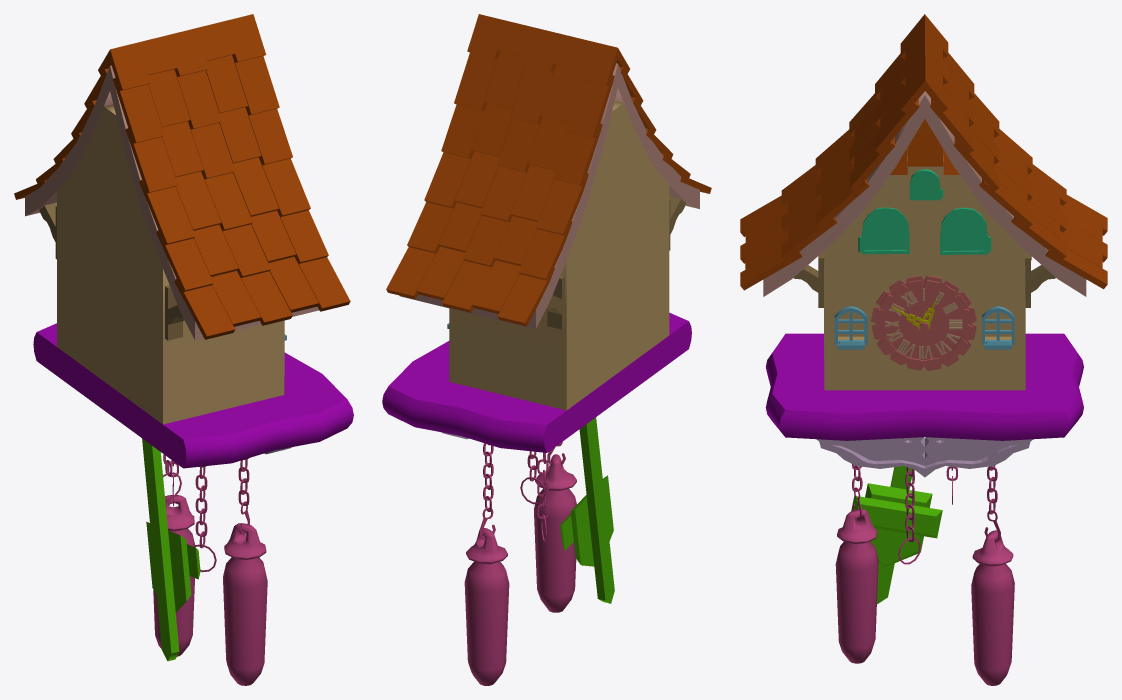
The model's file is uhr.fbx.
3 views of the same model, side by side, from view 1: azimuth 30°, elevation 25°; view 2: azimuth 150°, elevation 25°; view 3: azimuth 270°, elevation 25° (orthographic). The views are drawn at different scales.
Visible parts, largest first — view 1: polySurface1467, polySurface1450, polySurface1589, polySurface1637, polySurface1479, polySurface1646, polySurface1491, polySurface1537, polySurface1566, polySurface1536, polySurface1629, polySurface1521 (+21 smaller); view 2: polySurface1467, polySurface1450, polySurface1491, polySurface1589, polySurface1479, polySurface1637, polySurface1646, polySurface1484, polySurface1549, polySurface1623, polySurface1513, polySurface1600 (+21 smaller); view 3: polySurface1467, polySurface1450, polySurface1646, polySurface1637, polySurface1491, polySurface1633, polySurface1479, polySurface1503, polySurface1589, polySurface1507, polySurface1524, polySurface1435 (+22 smaller).
Part boxes in pixels (left/top/right/bottom): polySurface1467: left=57, top=104, right=284, bottom=424; polySurface1450: left=33, top=323, right=353, bottom=468; polySurface1589: left=98, top=14, right=266, bottom=90; polySurface1637: left=223, top=523, right=267, bottom=685; polySurface1479: left=142, top=438, right=200, bottom=661; polySurface1646: left=25, top=65, right=318, bottom=340; polySurface1491: left=153, top=495, right=194, bottom=656; polySurface1537: left=139, top=179, right=195, bottom=245; polySurface1566: left=113, top=78, right=164, bottom=143; polySurface1536: left=125, top=128, right=177, bottom=193; polySurface1629: left=174, top=278, right=235, bottom=339; polySurface1521: left=156, top=230, right=213, bottom=291; polySurface1467: left=449, top=101, right=669, bottom=410; polySurface1450: left=382, top=312, right=691, bottom=452; polySurface1491: left=464, top=528, right=509, bottom=685; polySurface1589: left=467, top=14, right=629, bottom=86; polySurface1479: left=560, top=417, right=614, bottom=603; polySurface1637: left=534, top=454, right=576, bottom=612; polySurface1646: left=400, top=63, right=699, bottom=329; polySurface1484: left=565, top=75, right=614, bottom=138; polySurface1549: left=535, top=173, right=588, bottom=235; polySurface1623: left=552, top=123, right=602, bottom=185; polySurface1513: left=497, top=268, right=554, bottom=326; polySurface1600: left=454, top=52, right=498, bottom=110; polySurface1467: left=824, top=147, right=1025, bottom=390; polySurface1450: left=765, top=333, right=1083, bottom=440; polySurface1646: left=763, top=91, right=1086, bottom=296; polySurface1637: left=835, top=509, right=878, bottom=663; polySurface1491: left=971, top=530, right=1014, bottom=685; polySurface1633: left=817, top=437, right=1032, bottom=477; polySurface1479: left=851, top=466, right=942, bottom=604; polySurface1503: left=871, top=275, right=976, bottom=370; polySurface1589: left=900, top=14, right=948, bottom=112; polySurface1507: left=875, top=280, right=972, bottom=368; polySurface1524: left=940, top=207, right=991, bottom=254; polySurface1435: left=858, top=207, right=909, bottom=254.
Size of the model in its own units: 3.79 by 13.6 by 7.24.
